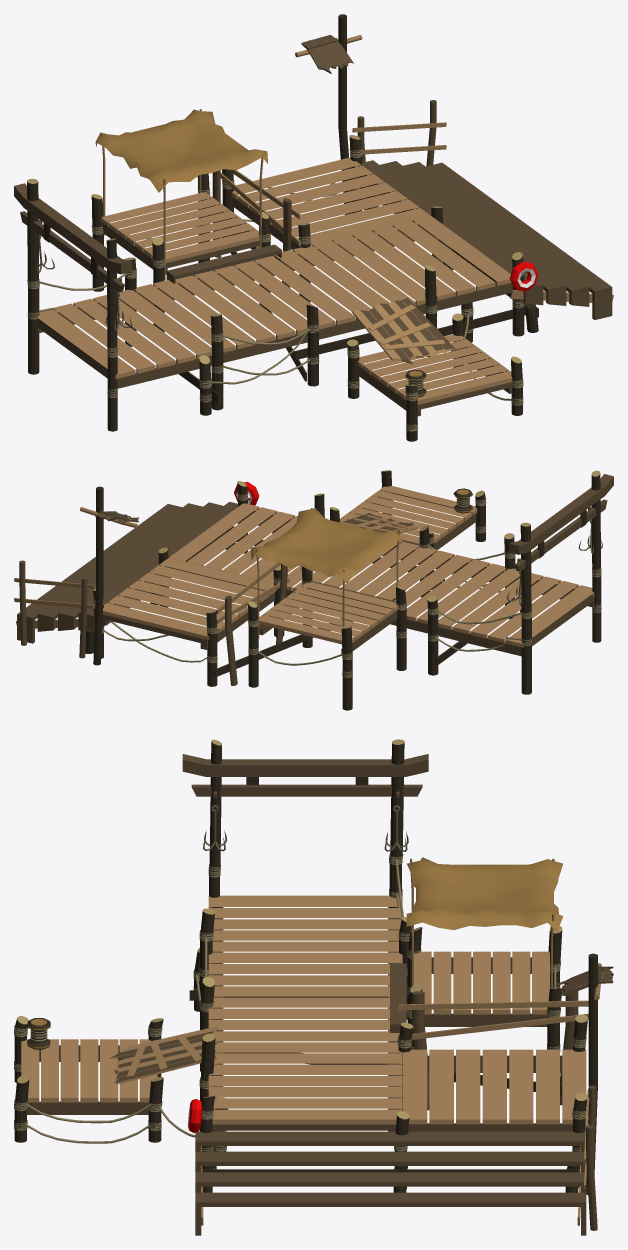
The model's file is Pier.fbx.
The picture shows the model from 3 angles, top to bottom: view 1: azimuth 30°, elevation 25°; view 2: azimuth 150°, elevation 25°; view 3: azimuth 270°, elevation 25°; orthographic projection. The views are drawn at different scales.
Visible parts, largest first — view 1: polySurface167, polySurface157, polySurface172, polySurface173, pPlane4, polySurface166, polySurface171, pCube53, polySurface170, polySurface169, polySurface168, pCube51 (+4 smaller); view 2: polySurface167, polySurface157, polySurface172, pPlane4, polySurface173, polySurface166, pCube53, polySurface171, polySurface169, polySurface170, polySurface168, pCylinder34 (+7 smaller); view 3: polySurface167, polySurface172, polySurface157, pPlane4, polySurface173, polySurface166, pCube53, polySurface171, polySurface170, polySurface169, polySurface168, pCube51 (+7 smaller).
Part boxes in pixels (x1,y1,x2,y2): polySurface167: [37, 216, 512, 388]; polySurface157: [27, 135, 524, 441]; polySurface172: [231, 157, 430, 249]; polySurface173: [101, 193, 259, 274]; pPlane4: [95, 109, 267, 192]; polySurface166: [357, 334, 512, 416]; polySurface171: [426, 162, 612, 319]; pCube53: [14, 183, 131, 292]; polySurface170: [403, 162, 589, 306]; polySurface169: [380, 161, 566, 305]; polySurface168: [362, 160, 543, 305]; pCube51: [175, 228, 538, 402]; polySurface167: [169, 503, 594, 656]; polySurface157: [93, 470, 601, 710]; polySurface172: [102, 558, 276, 649]; pPlane4: [250, 508, 402, 583]; polySurface173: [259, 582, 398, 653]; polySurface166: [340, 486, 477, 549]; pCube53: [509, 474, 613, 571]; polySurface171: [17, 504, 182, 643]; polySurface169: [58, 502, 222, 630]; polySurface170: [37, 503, 202, 631]; polySurface168: [78, 501, 237, 630]; pCylinder34: [93, 486, 103, 665]; polySurface167: [208, 895, 402, 1131]; polySurface172: [403, 1049, 586, 1131]; polySurface157: [14, 739, 587, 1189]; pPlane4: [406, 857, 563, 932]; polySurface173: [414, 951, 549, 1026]; polySurface166: [21, 1039, 157, 1114]; pCube53: [182, 754, 428, 796]; polySurface171: [195, 1192, 586, 1235]; polySurface170: [195, 1172, 586, 1192]; polySurface169: [195, 1151, 584, 1172]; polySurface168: [195, 1131, 585, 1151]; pCube51: [189, 990, 579, 1172].
Size of the model in its own units: 23.65 by 9.03 by 21.35.
